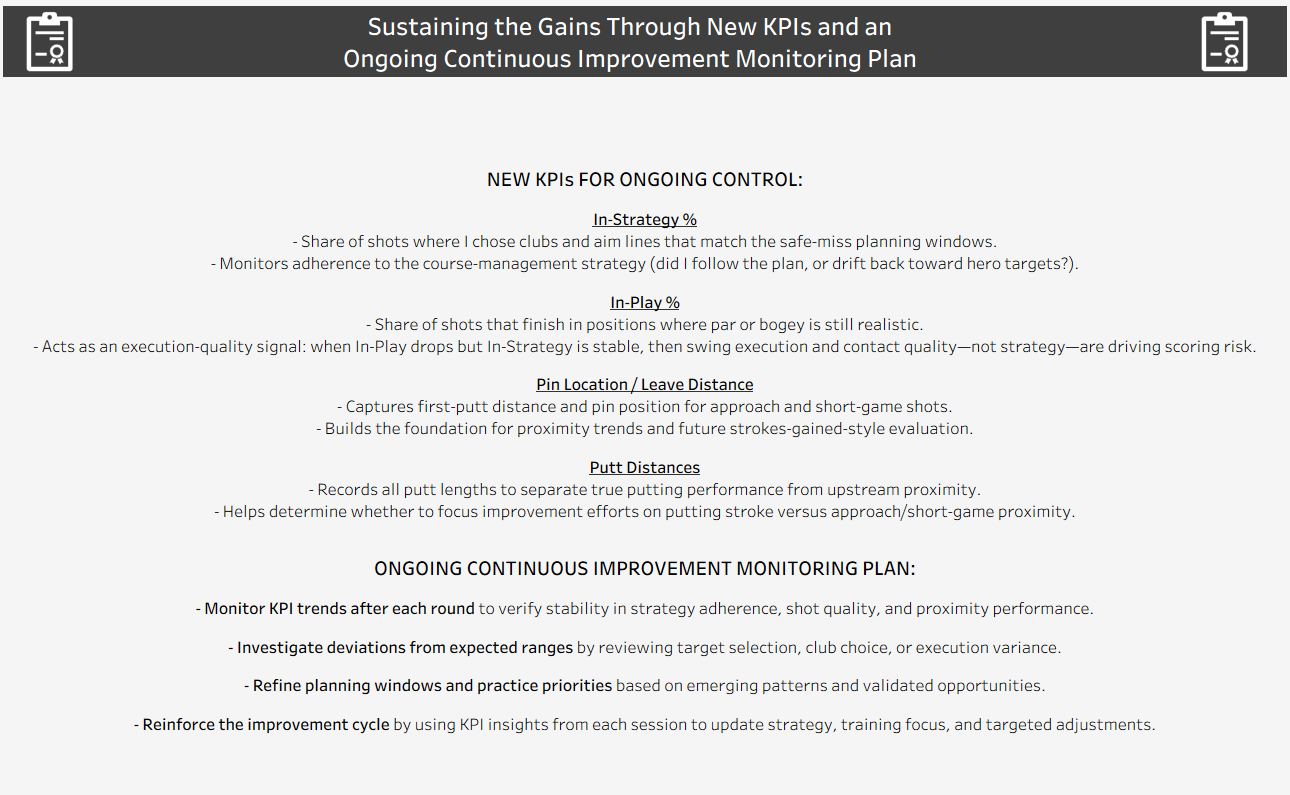

What the dashboard file says about the page in this screenshot:
{"tool":"tableau","page":{"name":"9. CONTROL","canvas":[1300,850],"ordinal":10},"visuals":[{"type":"image","param":"C:/Users/micha/OneDrive/Documents/NewForce/golf-capstone/data/reference/CONTROL.","box":[8,8,94,71]},{"type":"title","box":[102,8,1066,71]},{"type":"image","param":"C:/Users/micha/OneDrive/Documents/NewForce/golf-capstone/data/reference/CONTROL.","box":[1168,8,124,71]},{"type":"text","box":[8,79,1284,763]}]}

Visuals, with their boxes on the page's 1300x850 design canvas (x1, y1, x2, y2). These are canvas units, not pixel positions in the 1290x795 screenshot, which may show the page scaled, cropped or inside an application window:
image: Rect(8, 8, 102, 79)
title: Rect(102, 8, 1168, 79)
image: Rect(1168, 8, 1292, 79)
text: Rect(8, 79, 1292, 842)
